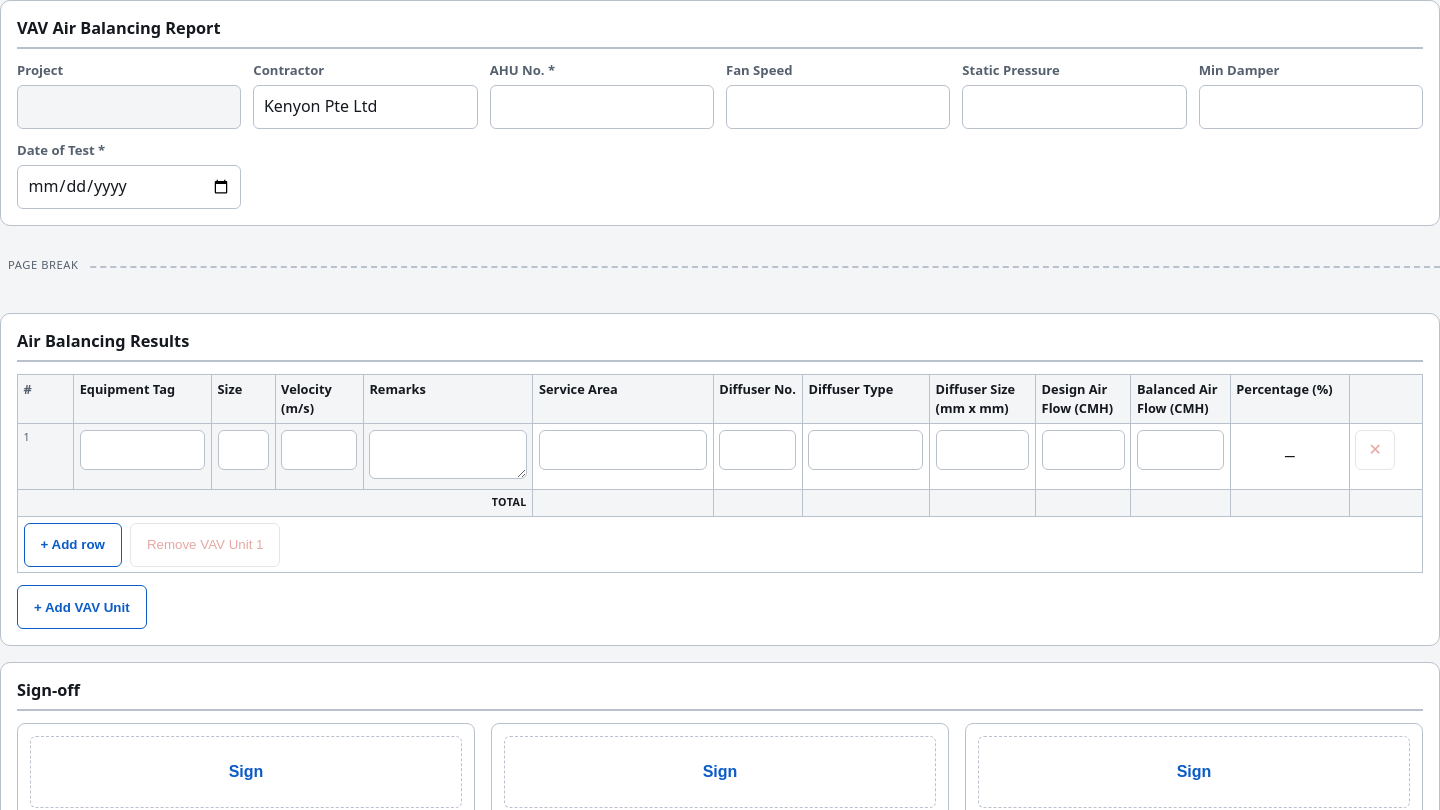
VAV Air Balancing template › computes each row's percentage and the group total as the engineer types
This screenshot has width=1440, height=810.
Type "140" into the number field named "Design Air Flow VAV Unit 1 row 1".
click(1083, 450); type("140")  # box [1042,430,1125,470]
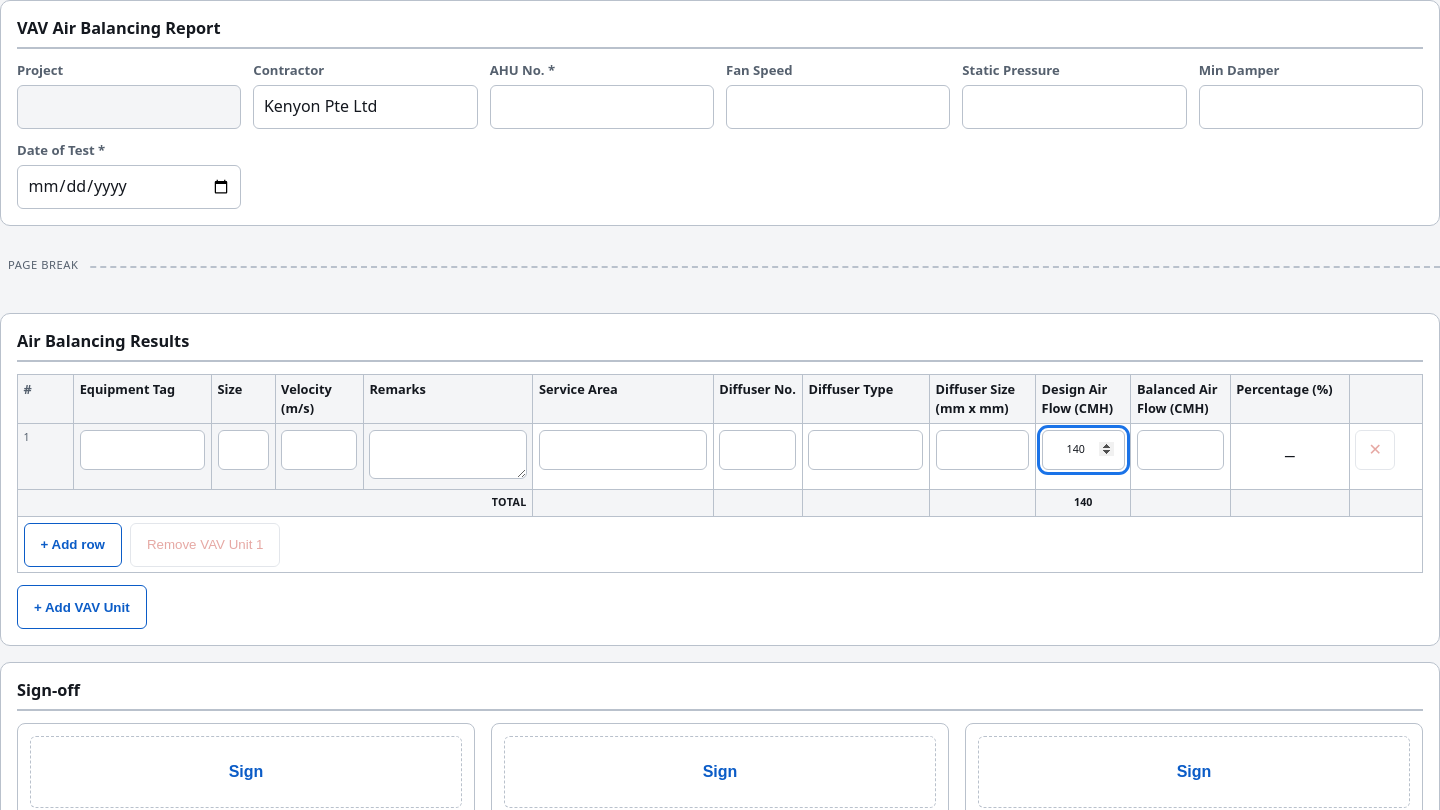
Type "123" into the number field named "Balanced Air Flow VAV Unit 1 row 1".
click(1181, 450); type("123")  # box [1137,430,1224,470]
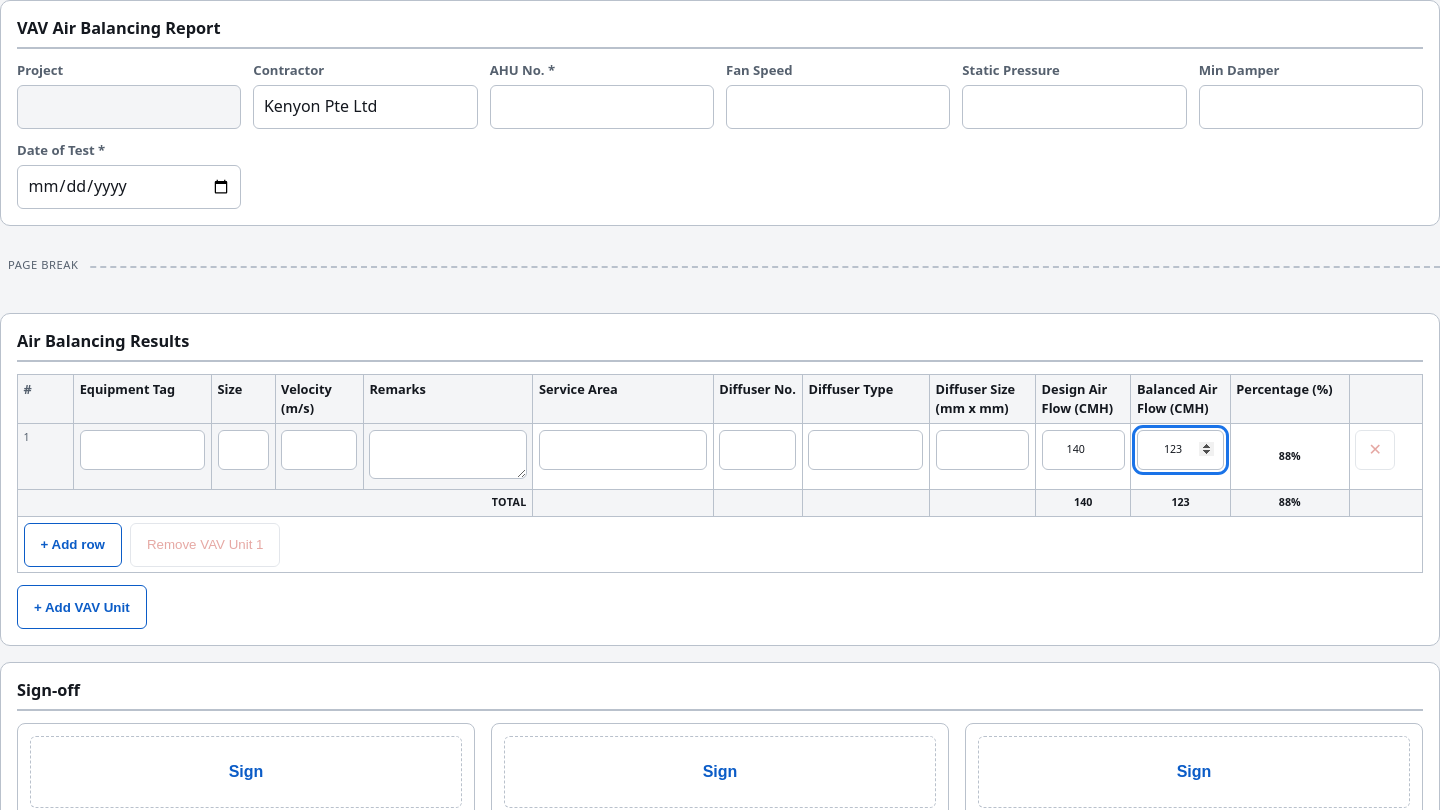
Expected: the text named "Percentage VAV Unit 1 row 1" reads "88%", [1279,449,1301,463]
